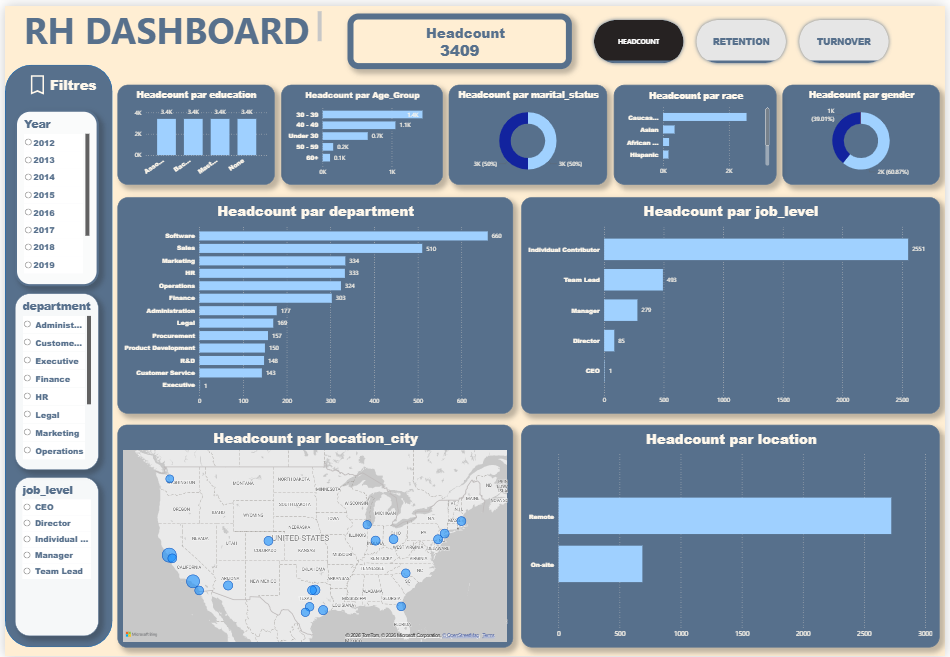

The page's visual inventory and layout, read from the dashboard file:
{"tool":"powerbi","page":{"name":"HEADCOUNT","canvas":[1880,1300],"ordinal":0},"visuals":[{"type":"textbox","box":[31.4,0,605.7,85.7],"z":0},{"type":"card","title":"Headcount","fields":{"Values":["Measure.Headcount"]},"box":[684.3,15.7,448.6,111.4],"z":1000},{"type":"clusteredBarChart","fields":{"Category":["Departement dim.department","Departement dim.sub-department"],"Y":["Measure.Headcount"]},"box":[225.7,382.9,791.4,432.9],"z":2000},{"type":"clusteredBarChart","fields":{"Y":["Measure.Headcount"],"Category":["Job Level Dim.job_level"]},"box":[1032.5,382.5,837.5,432.5],"z":3000},{"type":"barChart","fields":{"Category":["Location Dim.location"],"Y":["Measure.Headcount"]},"box":[1032.9,837.1,837.1,445.7],"z":4000},{"type":"map","fields":{"Category":["Location Dim.location_city"],"Size":["Measure.Headcount"]},"box":[225.7,837.1,791.4,445.7],"z":5000},{"type":"donutChart","fields":{"Y":["Measure.Headcount"],"Category":["Demographic Dim.gender"]},"box":[1554.3,158.6,314.3,200],"z":6000},{"type":"barChart","fields":{"Y":["Measure.Headcount"],"Category":["Demographic Dim.race"]},"box":[1217.1,158.6,325.7,200],"z":7000},{"type":"clusteredBarChart","fields":{"Y":["Measure.Headcount"],"Category":["Demographic Dim.Age_Group"]},"box":[551.4,158.6,322.9,200],"z":8000},{"type":"clusteredColumnChart","fields":{"Category":["Education Dim.education"],"Y":["Measure.Headcount"]},"box":[225.7,158.6,314.3,200],"z":9000},{"type":"donutChart","fields":{"Y":["Measure.Headcount"],"Category":["Marital Dim.marital_status"]},"box":[887.1,158.6,317.1,200],"z":10000},{"type":"pageNavigator","box":[1170,20,607.5,102.5],"z":11000},{"type":"shape","box":[0,117.5,215,1165],"z":12000},{"type":"listSlicer","fields":{"Values":["Date_Table.Year"]},"box":[20,207.5,167.5,352.5],"z":13000},{"type":"listSlicer","fields":{"Values":["Job Level Dim.job_level"]},"box":[20,942.5,167.5,317.5],"z":14000},{"type":"listSlicer","fields":{"Values":["Departement dim.department"]},"box":[20,574.3,167.1,352.9],"z":15000},{"type":"actionButton","box":[40,132.5,147.5,50],"z":16000}]}

Visuals, with their boxes in screenshot pixels (x1, y1, x2, y2), scaled from the page's 1880x1300 canvas onto the 950x657 screenshot:
textbox: Rect(16, 0, 322, 43)
"Headcount" card: Rect(346, 8, 572, 64)
clusteredBarChart - Departement dim.department x Departement dim.sub-department: Rect(114, 194, 514, 412)
clusteredBarChart - Measure.Headcount x Job Level Dim.job_level: Rect(522, 193, 945, 412)
barChart - Location Dim.location x Measure.Headcount: Rect(522, 423, 945, 648)
map - Location Dim.location_city x Measure.Headcount: Rect(114, 423, 514, 648)
donutChart - Measure.Headcount x Demographic Dim.gender: Rect(785, 80, 944, 181)
barChart - Measure.Headcount x Demographic Dim.race: Rect(615, 80, 780, 181)
clusteredBarChart - Measure.Headcount x Demographic Dim.Age_Group: Rect(279, 80, 442, 181)
clusteredColumnChart - Education Dim.education x Measure.Headcount: Rect(114, 80, 273, 181)
donutChart - Measure.Headcount x Marital Dim.marital_status: Rect(448, 80, 609, 181)
pageNavigator: Rect(591, 10, 898, 62)
shape: Rect(0, 59, 109, 648)
listSlicer - Date_Table.Year: Rect(10, 105, 95, 283)
listSlicer - Job Level Dim.job_level: Rect(10, 476, 95, 637)
listSlicer - Departement dim.department: Rect(10, 290, 95, 469)
actionButton: Rect(20, 67, 95, 92)
